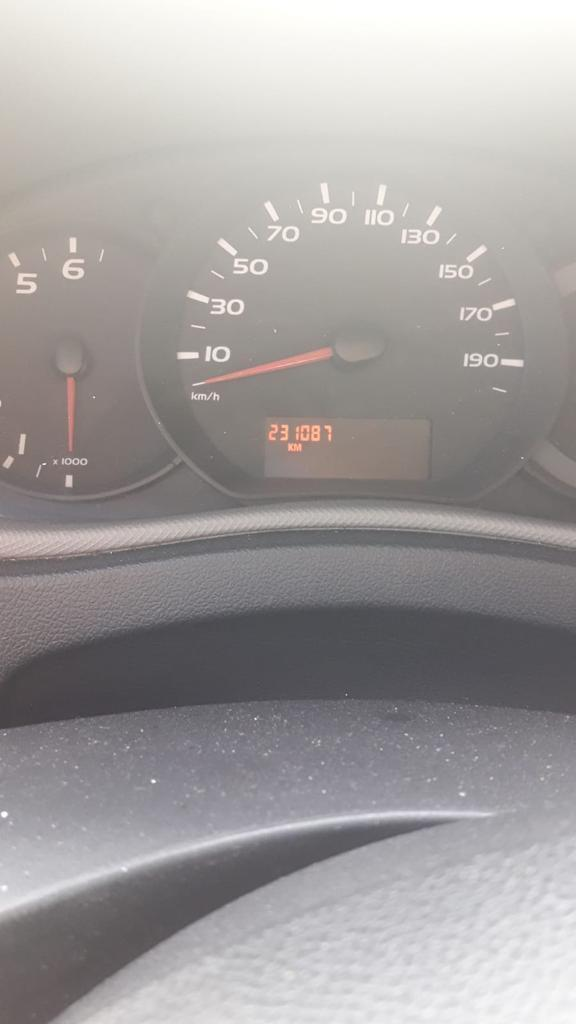0: (299, 424, 310, 441)
1: (293, 424, 299, 441)
2: (267, 424, 277, 441)
3: (279, 424, 288, 440)
7: (323, 424, 332, 442)
8: (310, 424, 320, 441)
X: (293, 442, 302, 452), (287, 442, 293, 452)
odometer: (259, 411, 437, 485)
